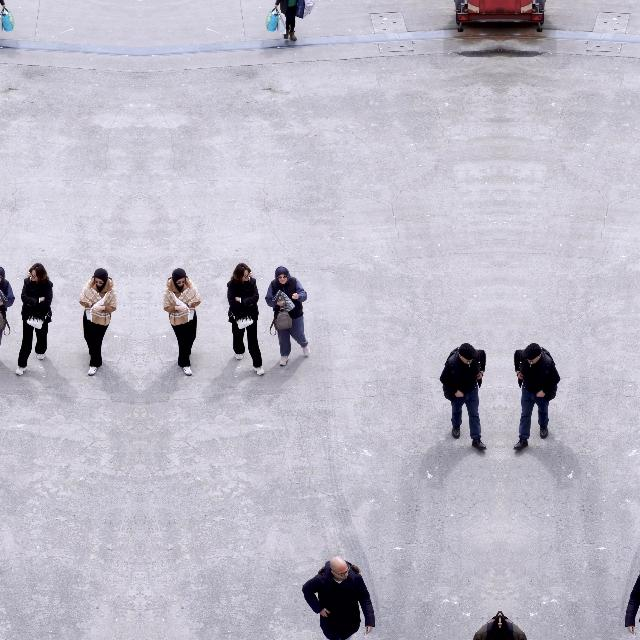person: (301, 556, 375, 640), (439, 343, 487, 451), (513, 343, 561, 451), (266, 266, 310, 366), (227, 262, 265, 376), (15, 262, 53, 376), (162, 268, 202, 376), (78, 268, 118, 376), (0, 266, 14, 366), (625, 556, 640, 639), (274, 0, 305, 40), (472, 610, 500, 640), (500, 610, 528, 640), (0, 0, 5, 40)
